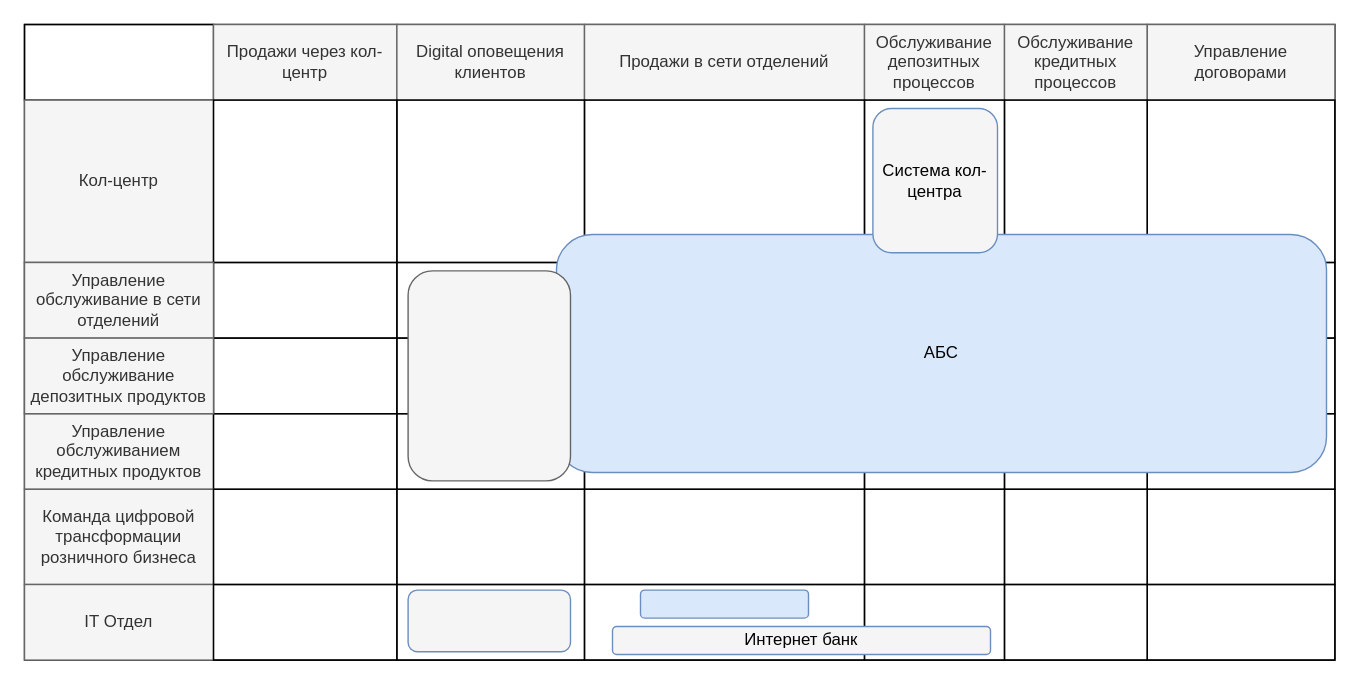
Some shapes in this 1359 by 685 pixel diagram are drawn without their labels. The centre of each missing label's shape, as x and y in pixels:
"Сайт" belongs at point (723, 603).
"Система партнерского кол-центра" belongs at point (488, 375).
"СМС-шлюз телеком оператора" belongs at point (488, 620).
